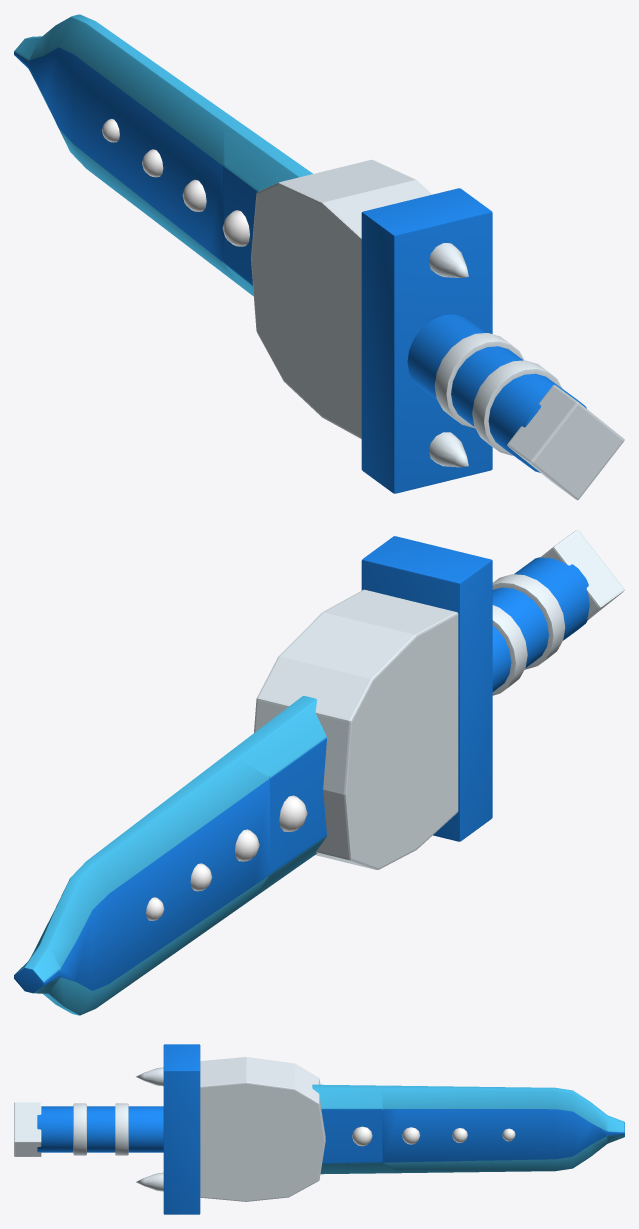
File: Sword_PermafrostGreatsword.glb
The picture shows the model from 3 angles, top to bottom: view 1: azimuth 30°, elevation 25°; view 2: azimuth 150°, elevation 25°; view 3: azimuth 270°, elevation 25°; orthographic projection. The views are drawn at different scales.
Parts seen in each view (by area): view 1: Sword_PermafrostGreatsword; view 2: Sword_PermafrostGreatsword; view 3: Sword_PermafrostGreatsword.
Boxes of the visible parts, x1=… form: Sword_PermafrostGreatsword: x1=14, y1=14, x2=624, y2=500; Sword_PermafrostGreatsword: x1=14, y1=529, x2=624, y2=1015; Sword_PermafrostGreatsword: x1=14, y1=1044, x2=624, y2=1214.
Size of the model in its own units: 0.104 by 0.26 by 1.
1 material, 1 textured.
